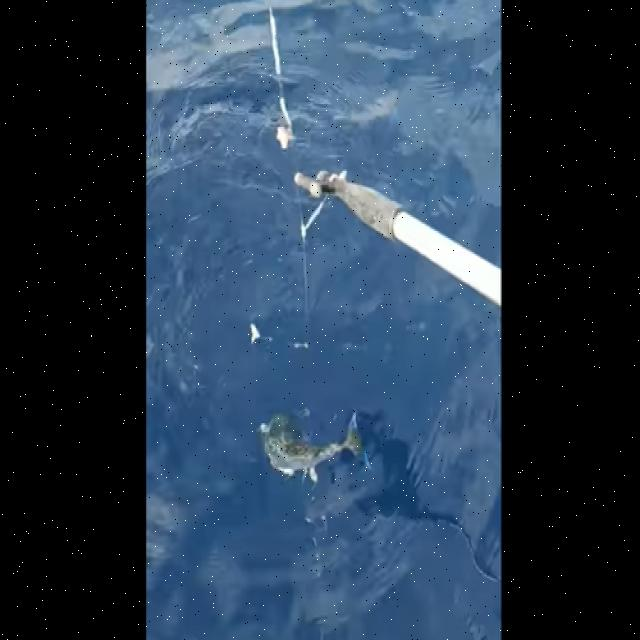Balik: (259, 415, 363, 483)
